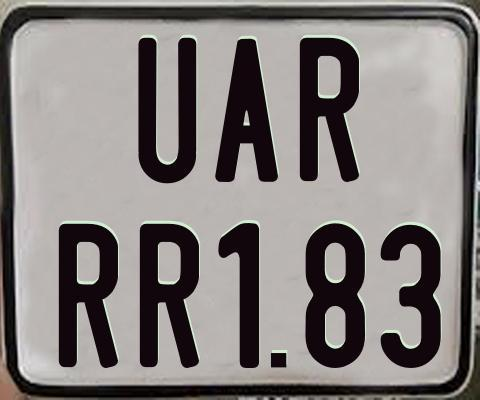1: (218, 222, 265, 369)
3: (380, 223, 446, 368)
8: (305, 223, 366, 373)
A: (215, 37, 278, 180)
R: (138, 222, 202, 371), (300, 38, 365, 182), (58, 221, 119, 370)
U: (137, 35, 197, 184)
